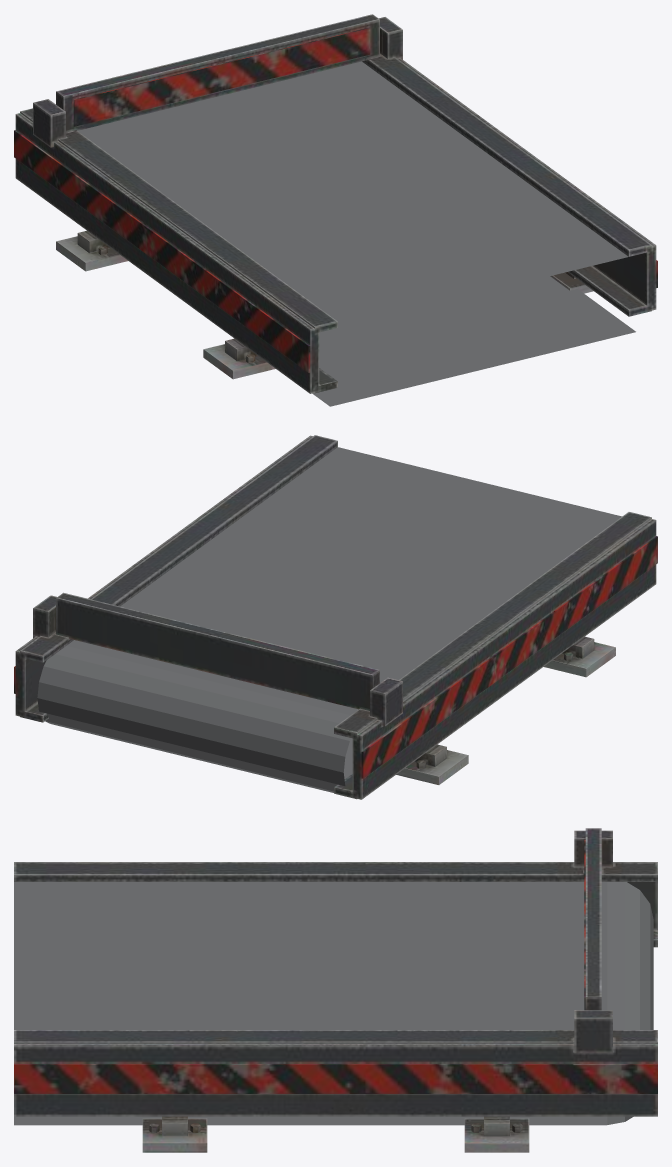
File: esteira_fim_rapida.glb
3 views of the same model, one above another, from view 1: azimuth 30°, elevation 25°; view 2: azimuth 150°, elevation 25°; view 3: azimuth 270°, elevation 25° (orthographic). The views are drawn at different scales.
Parts seen in each view (by area): view 1: esteira_fim_rapida_corpo; view 2: esteira_fim_rapida_corpo; view 3: esteira_fim_rapida_corpo.
Boxes of the visible parts, x1,y1,x2,y2 form: esteira_fim_rapida_corpo: (14,14,657,406); esteira_fim_rapida_corpo: (14,435,657,799); esteira_fim_rapida_corpo: (14,828,657,1152).
Size of the model in its own units: 0.75 by 0.236 by 1.
2 materials, 1 textured.
